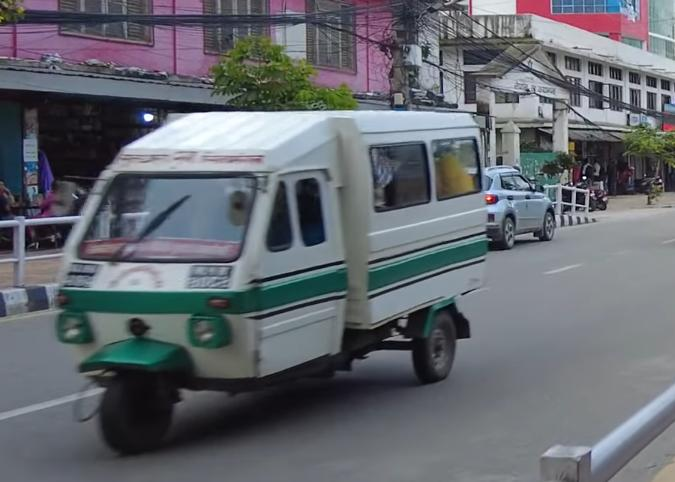car: (474, 164, 562, 251)
tempo: (39, 93, 499, 463)
